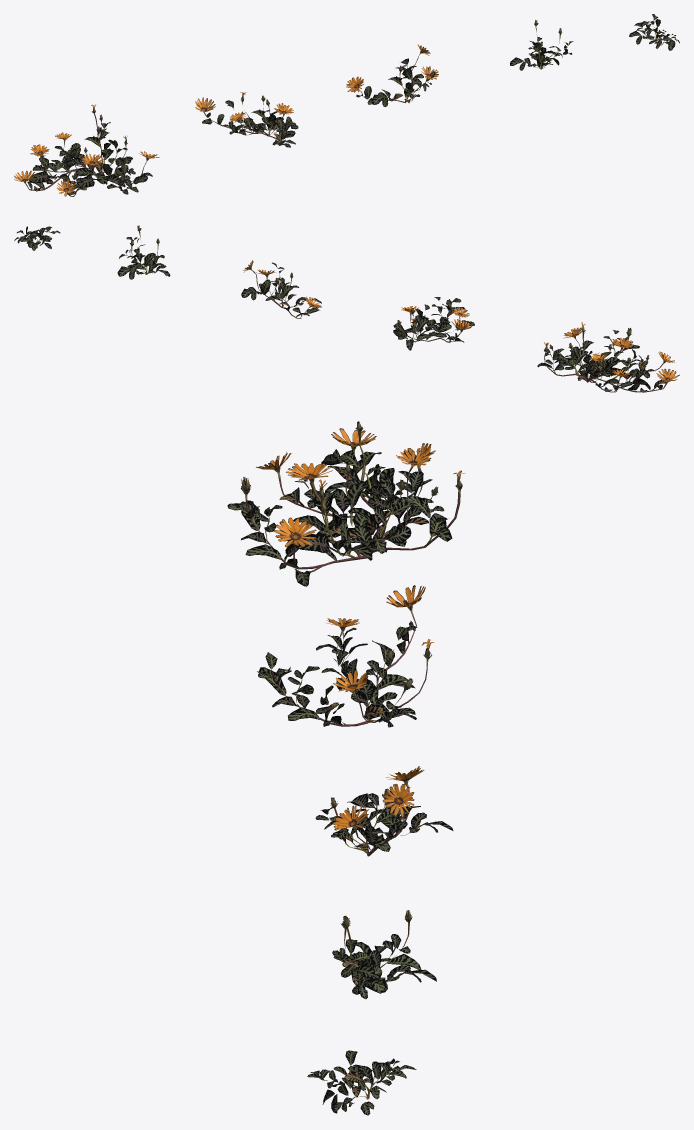
File: flower_ursinia.glb
The picture shows the model from 3 angles, top to bottom: view 1: azimuth 30°, elevation 25°; view 2: azimuth 150°, elevation 25°; view 3: azimuth 270°, elevation 25°; orthographic projection. The views are drawn at different scales.
Parts seen in each view (by area): view 1: flower_ursinia_a_LOD0; view 2: flower_ursinia_a_LOD0; view 3: flower_ursinia_a_LOD0.
Boxes of the visible parts, x1,y1,x2,y2 form: flower_ursinia_a_LOD0: [14, 14, 679, 196]; flower_ursinia_a_LOD0: [14, 225, 679, 392]; flower_ursinia_a_LOD0: [227, 421, 465, 1115].
Bounding box in the file's own units: 2.19 × 0.1716 × 0.3432.
Materials: 1 (1 with a texture image).
